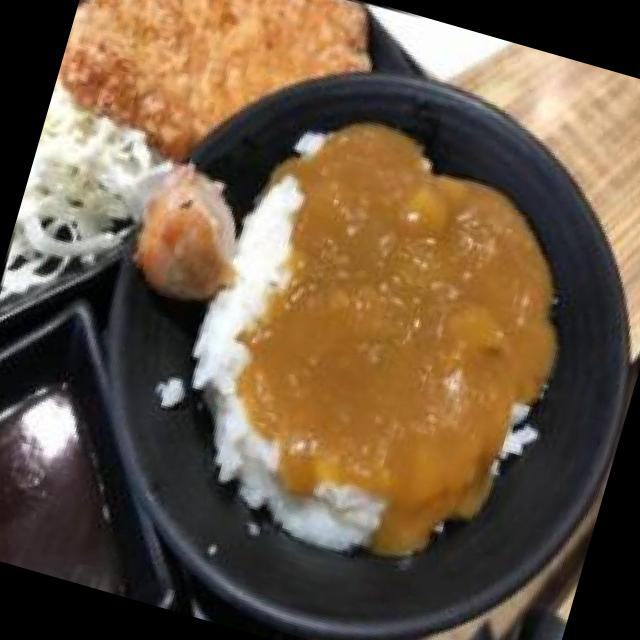curry: (182, 107, 590, 552)
